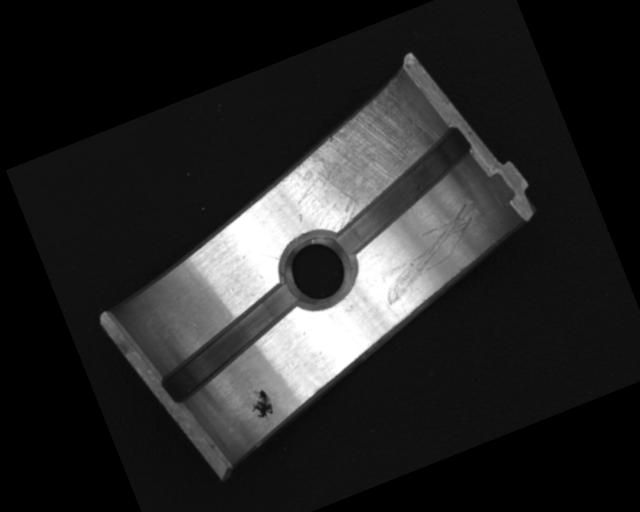blot: (242, 384, 279, 424)
gap: (311, 122, 492, 260), (144, 281, 317, 408)
hole: (274, 229, 360, 316)
nick: (361, 198, 496, 307)
scratch: (266, 70, 456, 246)
